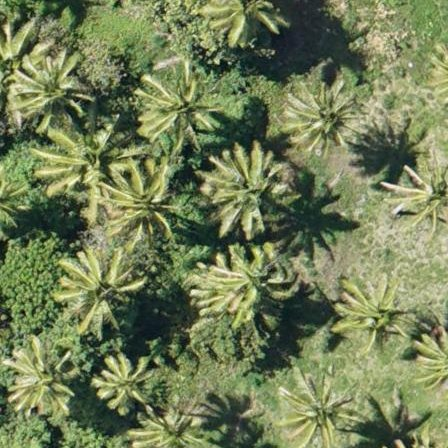palm_tree: (205, 147, 290, 235), (207, 243, 283, 321), (103, 162, 177, 240), (8, 51, 87, 121), (45, 127, 117, 200), (283, 85, 354, 157), (6, 349, 73, 421), (65, 253, 131, 323), (139, 75, 208, 141), (284, 371, 345, 437), (391, 161, 448, 229), (342, 272, 401, 335), (95, 354, 152, 413), (207, 1, 282, 44), (135, 399, 196, 448)
